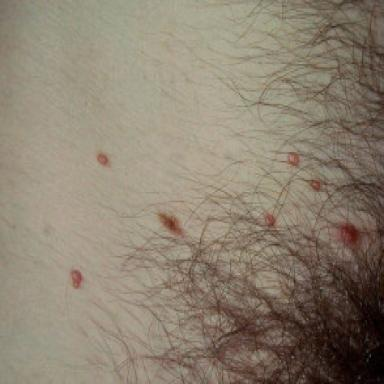Molluscum-Contagiosum: (158, 213, 183, 235), (341, 223, 360, 249), (71, 269, 83, 288), (97, 153, 109, 165), (288, 153, 299, 166), (265, 214, 275, 226), (313, 181, 321, 190)
